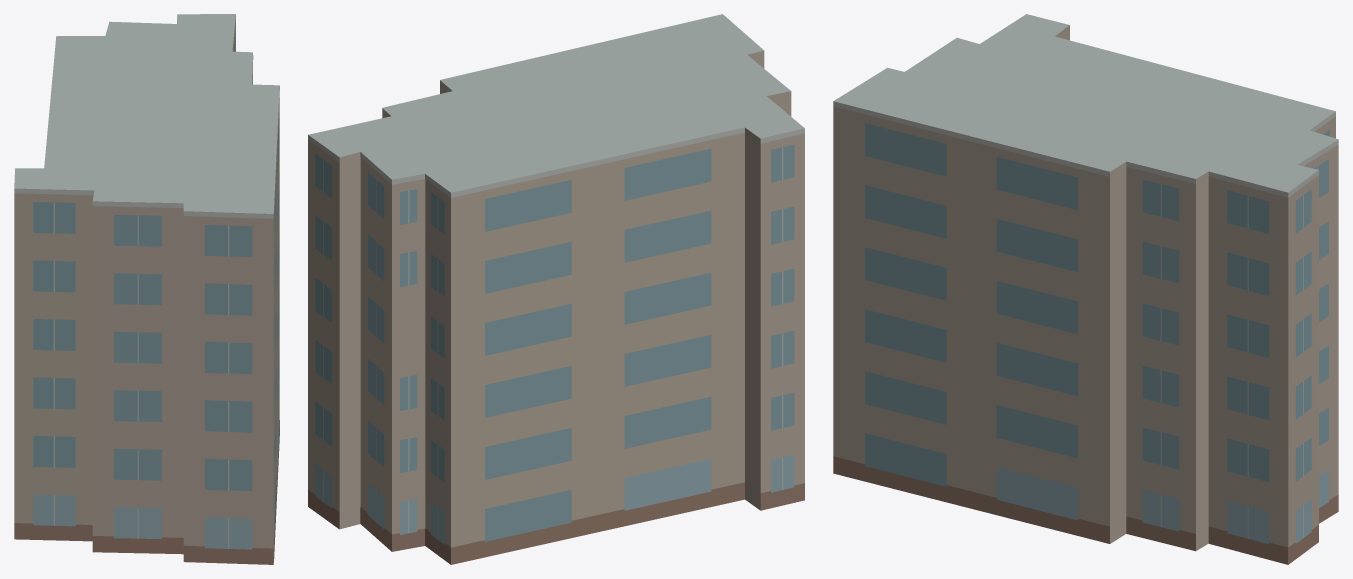
File: survey-upis-32769928.glb
3 views of the same model, side by side, from view 1: azimuth 30°, elevation 25°; view 2: azimuth 150°, elevation 25°; view 3: azimuth 270°, elevation 25° (orthographic). The views are drawn at different scales.
Parts seen in each view (by area): view 1: survey-upis-32769928.tmp; view 2: survey-upis-32769928.tmp; view 3: survey-upis-32769928.tmp.
Boxes of the visible parts, box(x1,y1,x2,y2) form: survey-upis-32769928.tmp: box(14, 14, 279, 564); survey-upis-32769928.tmp: box(308, 14, 804, 564); survey-upis-32769928.tmp: box(833, 14, 1338, 564).
Size of the model in its own units: 18.43 by 17.9 by 22.03.
